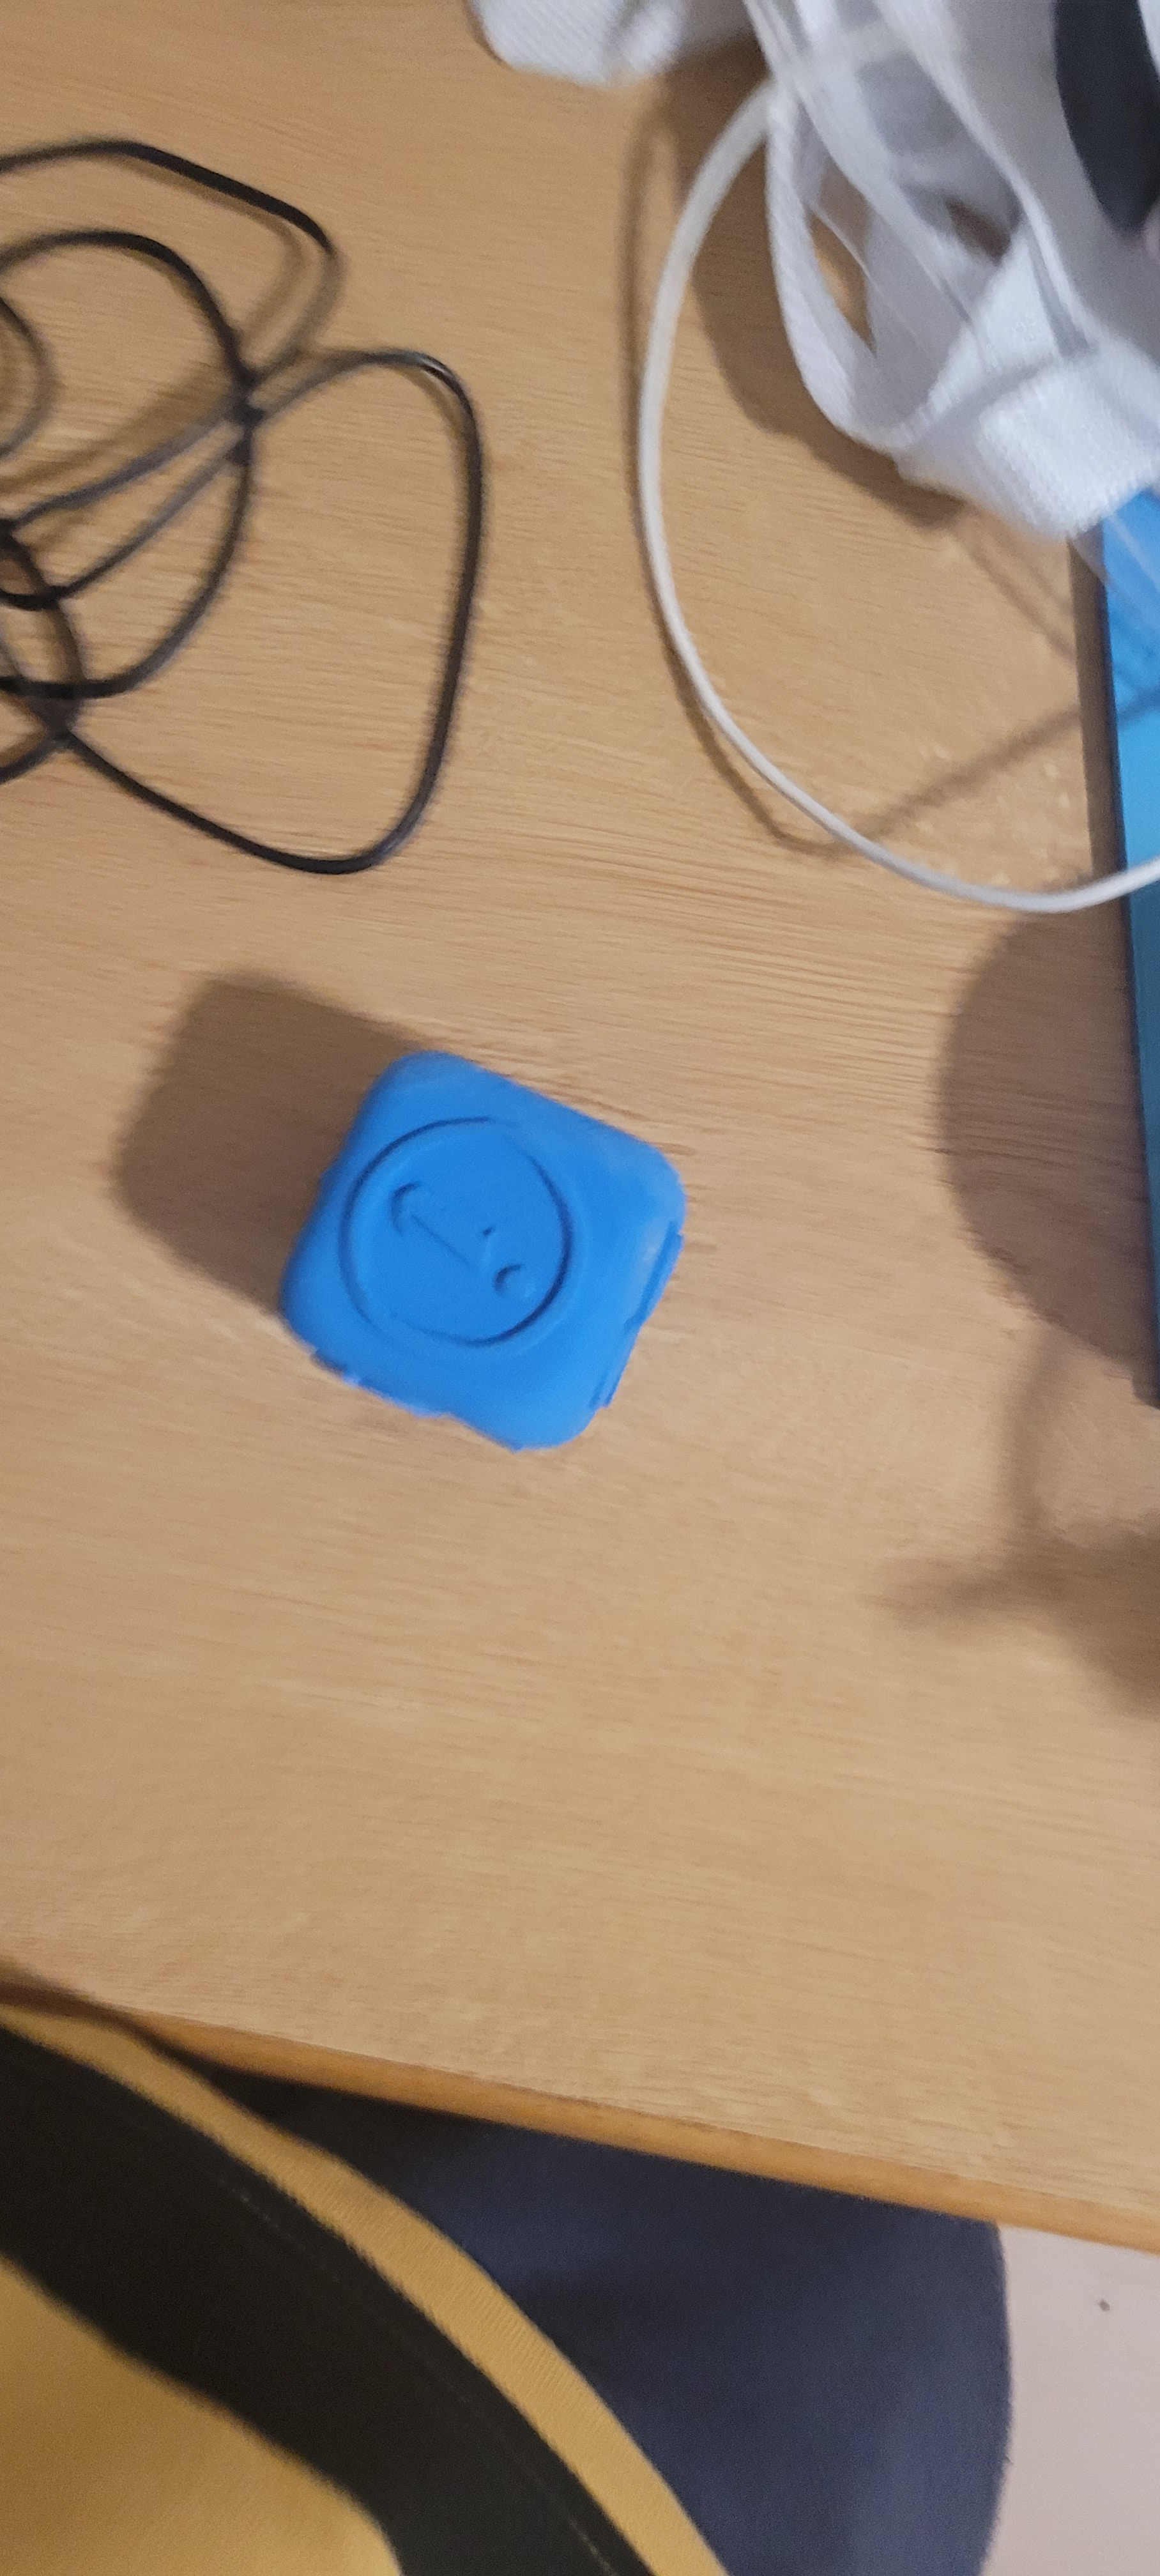Info: (314, 1079, 608, 1424)
